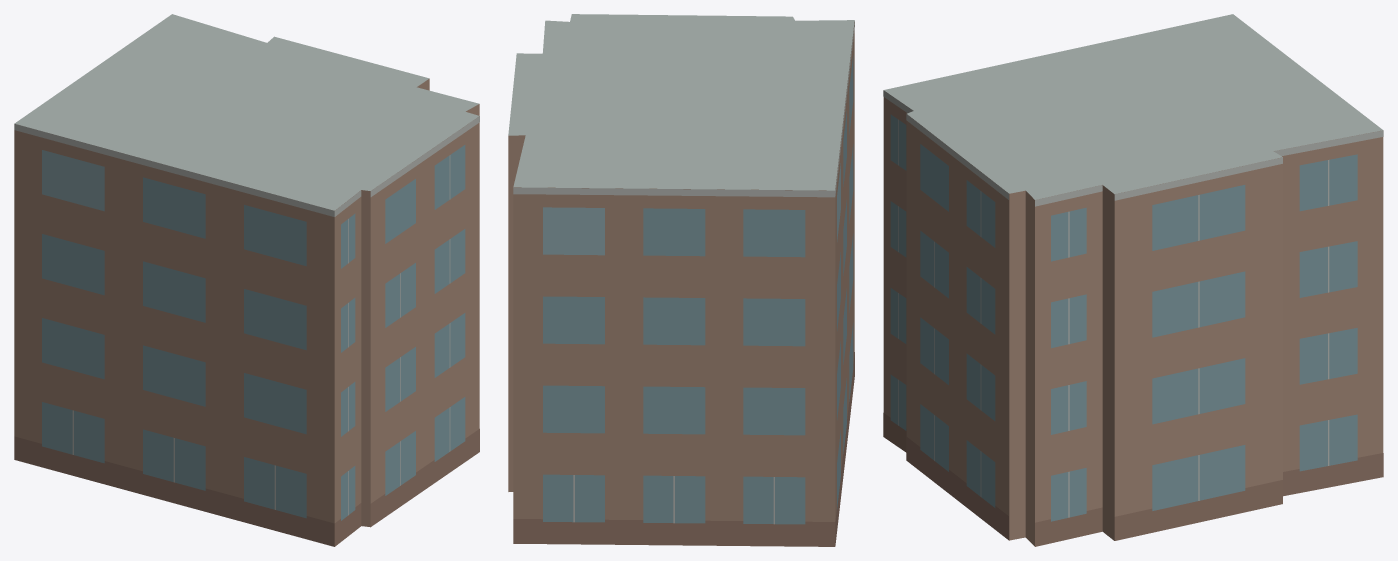
File: survey-upis-32828634.glb
The picture shows the model from 3 angles, left to right: view 1: azimuth 30°, elevation 25°; view 2: azimuth 150°, elevation 25°; view 3: azimuth 270°, elevation 25°; orthographic projection. The views are drawn at different scales.
Visible parts, largest first — view 1: survey-upis-32828634.tmp; view 2: survey-upis-32828634.tmp; view 3: survey-upis-32828634.tmp.
Part boxes in pixels (x1,y1,x2,y2): survey-upis-32828634.tmp: (14, 14, 479, 546); survey-upis-32828634.tmp: (508, 14, 854, 546); survey-upis-32828634.tmp: (883, 14, 1383, 546).
Size of the model in its own units: 14.73 by 12.8 by 16.73.
